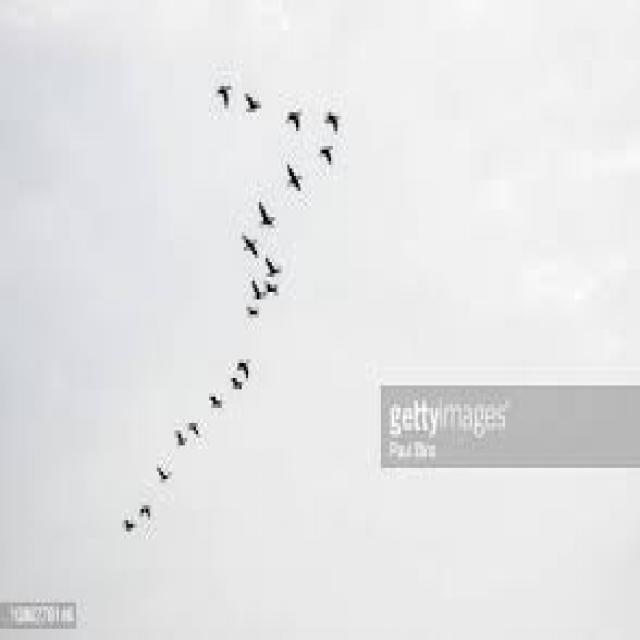bird: (311, 133, 344, 189), (247, 190, 282, 240), (280, 146, 306, 210), (146, 453, 185, 494), (244, 80, 274, 130), (247, 277, 289, 311), (110, 509, 143, 550), (258, 245, 293, 283), (196, 384, 231, 422), (207, 71, 236, 116), (226, 368, 256, 409), (282, 98, 312, 138), (226, 223, 255, 264), (186, 412, 212, 456), (160, 416, 188, 456), (230, 346, 266, 376), (321, 96, 345, 140), (231, 307, 268, 333), (130, 494, 154, 520)
